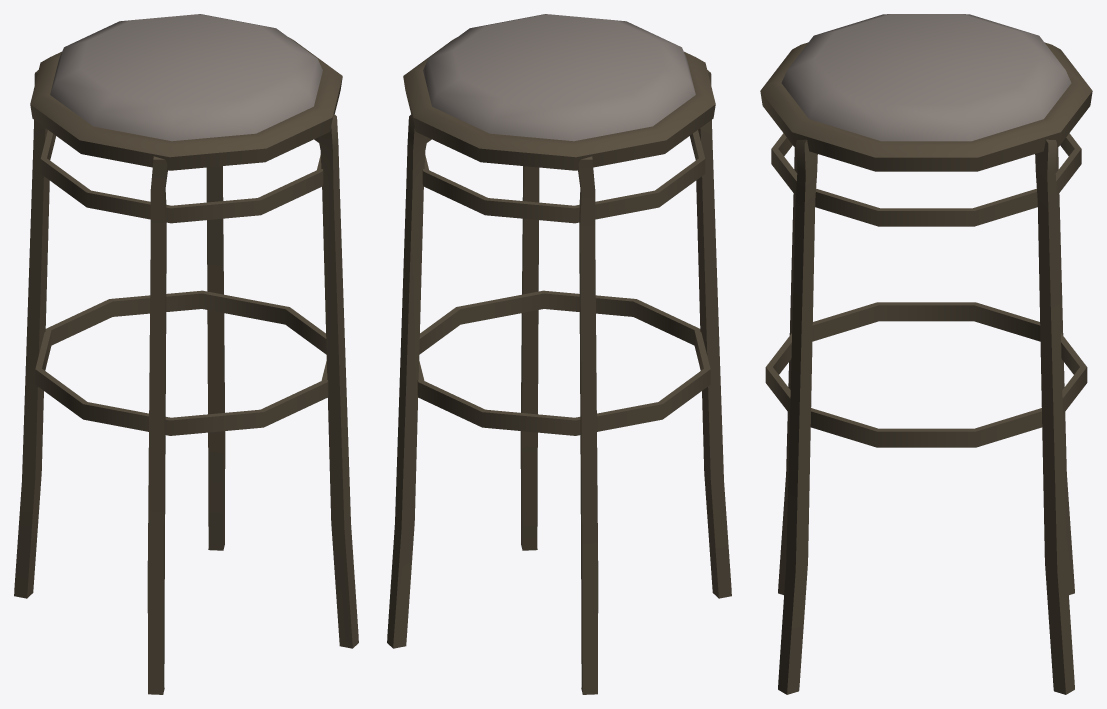
The model's file is quaternius-house-interior-stool.glb.
3 renders of one model, left to right at view 1: azimuth 30°, elevation 25°; view 2: azimuth 150°, elevation 25°; view 3: azimuth 270°, elevation 25°, orthographic. The views are drawn at different scales.
Visible parts, largest first — view 1: Stool; view 2: Stool; view 3: Stool.
Boxes of the visible parts, x1,y1,x2,y2 form: Stool: (14,14,358,694); Stool: (387,14,731,694); Stool: (760,14,1092,694).
Size of the model in its own units: 0.6753 by 1.37 by 0.71.
